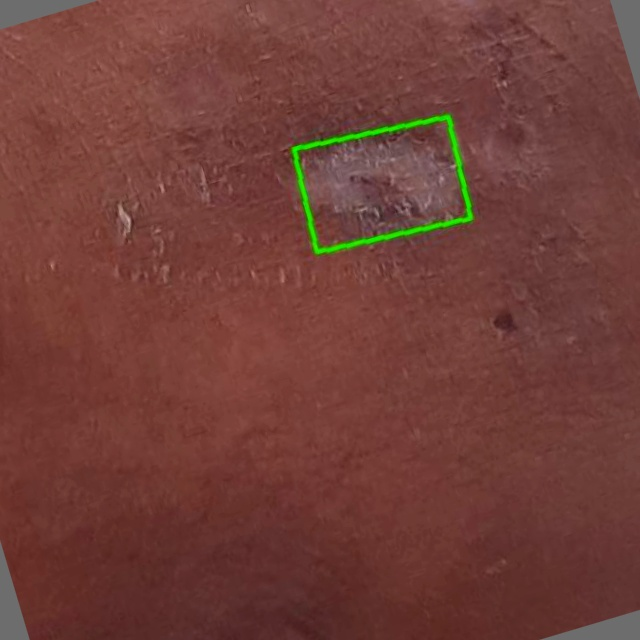Eczema: (294, 116, 470, 252)
